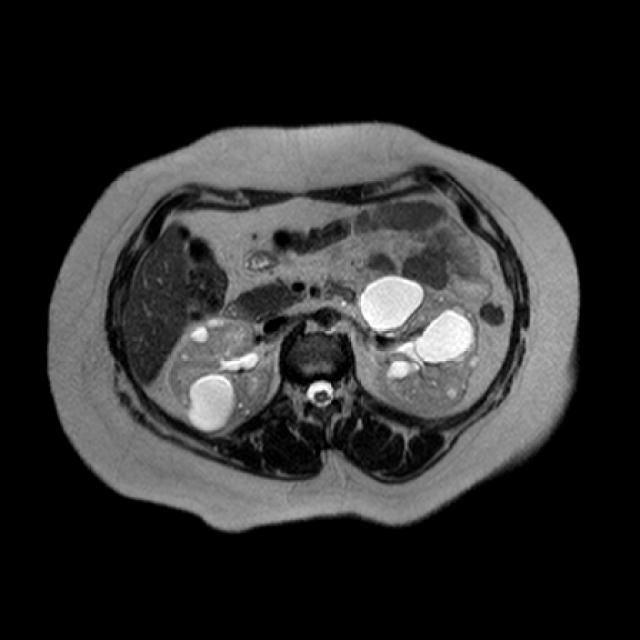sag: (165, 315, 276, 433)
sol: (354, 275, 483, 414)
